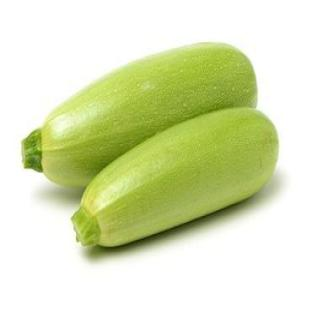Zucchini: (22, 44, 257, 185), (72, 108, 278, 245)
